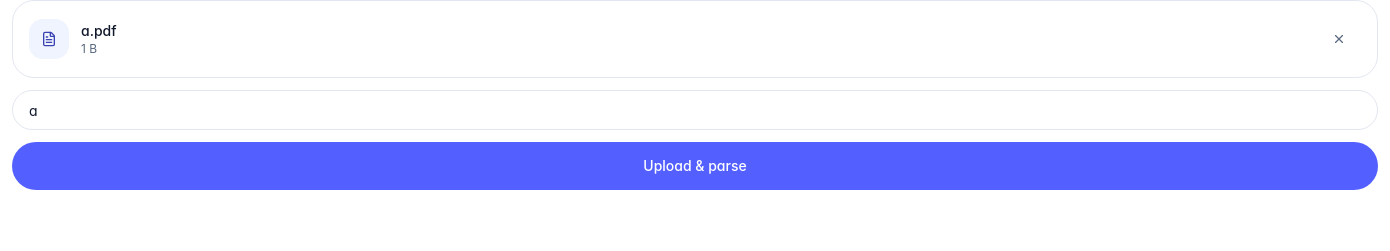
it: UploadDropzone › maps API status 422 to a translated message, never the raw server text
Earlier steps of the test are not shown.
Click the button "Upload & parse": (695, 166) [12,142,1378,190]
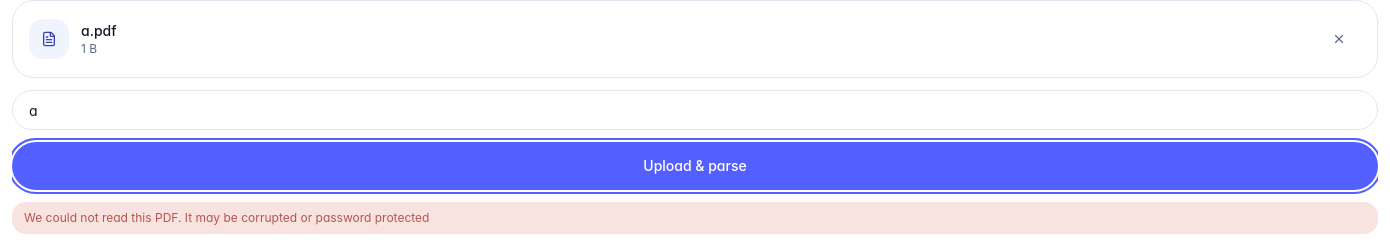
Result: the text "We could not read this PDF. It may be corrupted or password protected" is shown at [12,202,1378,234]
